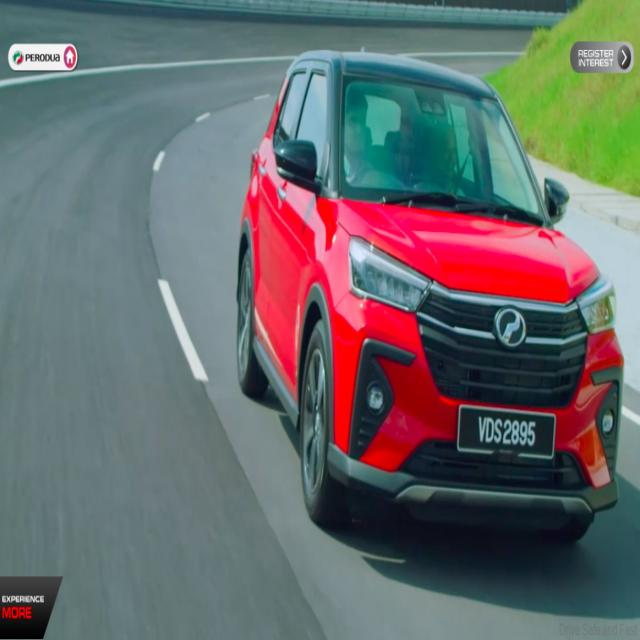PeroduaAtiva: (235, 47, 624, 544)
